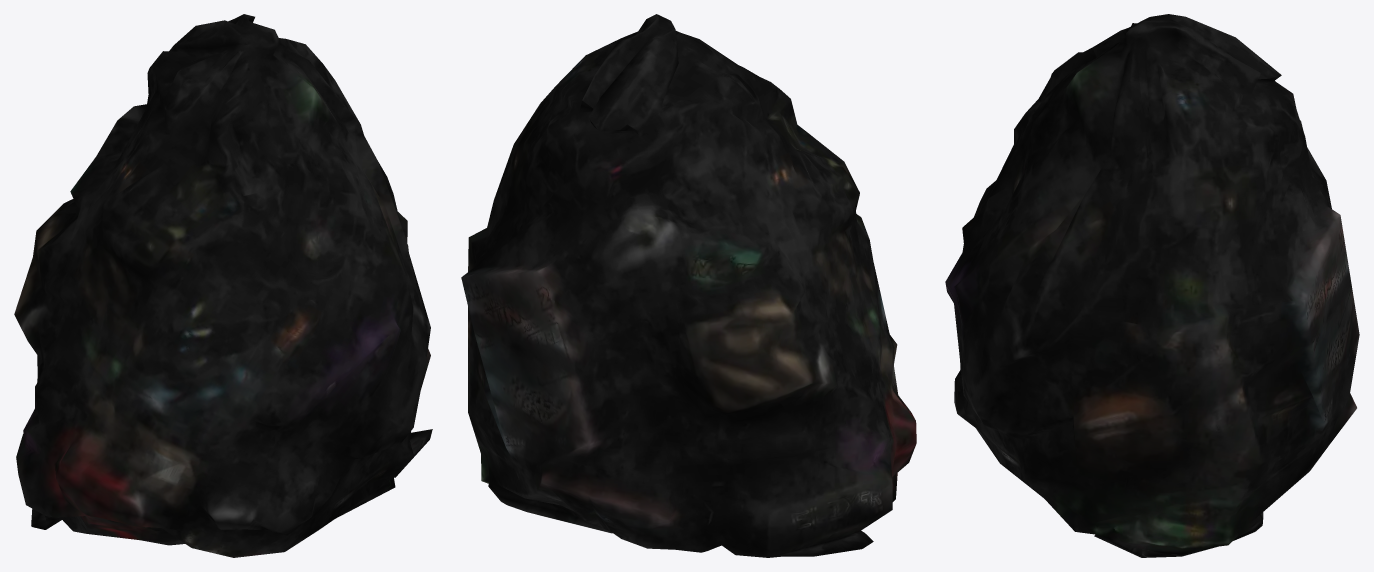
Rendered from trashbag.glb.
3 renders of one model, left to right at view 1: azimuth 30°, elevation 25°; view 2: azimuth 150°, elevation 25°; view 3: azimuth 270°, elevation 25°, orthographic. The views are drawn at different scales.
Parts seen in each view (by area): view 1: trashbag; view 2: trashbag; view 3: trashbag.
Part boxes in pixels (x1=…): trashbag: x1=14, y1=14, x2=432, y2=557; trashbag: x1=461, y1=14, x2=916, y2=557; trashbag: x1=945, y1=14, x2=1359, y2=557.
Bounding box in the file's own units: 0.5281 × 0.5725 × 0.4629.
Materials: 1 (1 with a texture image).
